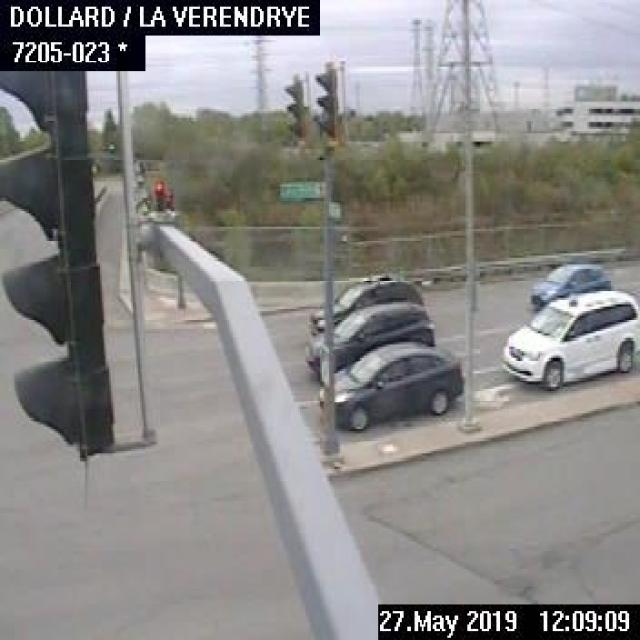vehicle: (502, 289, 638, 389), (327, 341, 466, 429), (304, 300, 438, 373), (308, 274, 424, 336), (528, 261, 614, 309)
